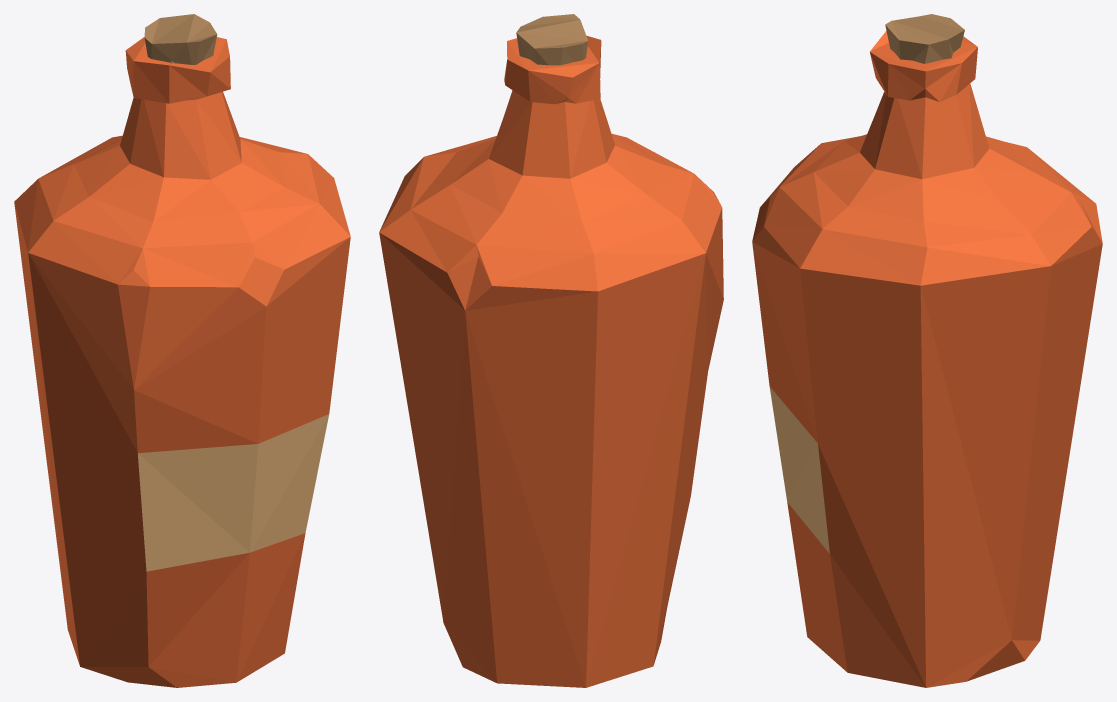
The model's file is AWS_Potion_Orange_019.fbx.
3 views of the same model, side by side, from view 1: azimuth 30°, elevation 25°; view 2: azimuth 150°, elevation 25°; view 3: azimuth 270°, elevation 25° (orthographic).
Visible parts, largest first — view 1: AWS_Potion_Orange_019; view 2: AWS_Potion_Orange_019; view 3: AWS_Potion_Orange_019.
Part boxes in pixels (left/top/right/bottom): AWS_Potion_Orange_019: left=14, top=14, right=350, bottom=687; AWS_Potion_Orange_019: left=379, top=14, right=723, bottom=687; AWS_Potion_Orange_019: left=752, top=14, right=1102, bottom=687.
Size of the model in its own units: 9.69 by 18.76 by 9.66.
